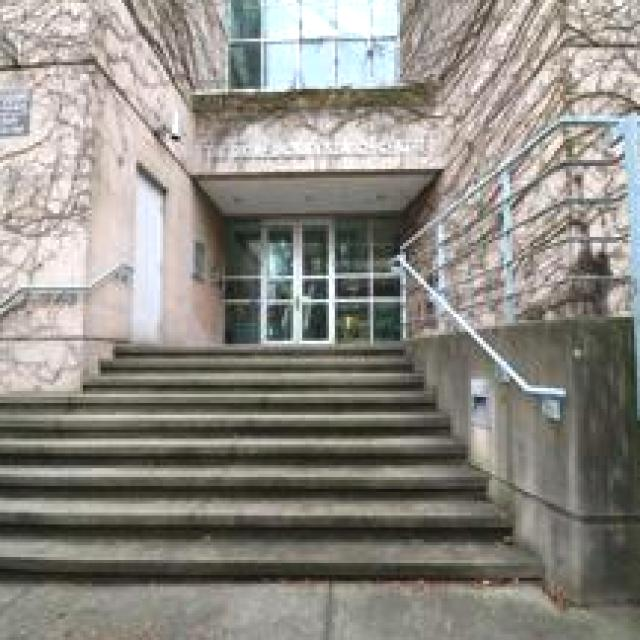upstair: (60, 428, 481, 623)
